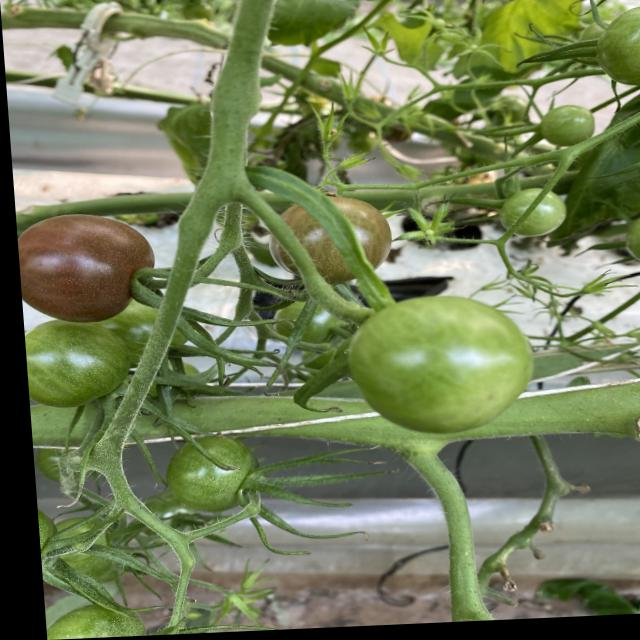yesil: (317, 296, 549, 442), (146, 425, 253, 528), (19, 318, 136, 408)
